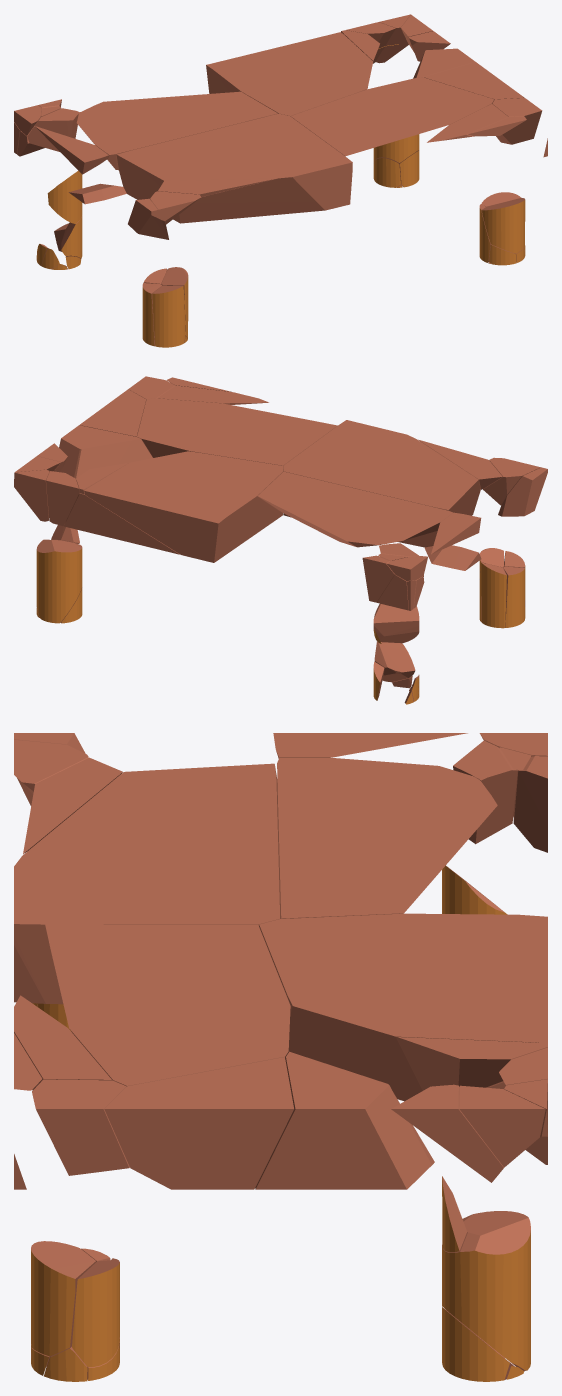
Rendered from cubicle_table_kaputt.glb.
The picture shows the model from 3 angles, top to bottom: view 1: azimuth 30°, elevation 25°; view 2: azimuth 150°, elevation 25°; view 3: azimuth 270°, elevation 25°; orthographic projection. The views are drawn at different scales.
Visible parts, largest first — view 1: Cube_cell.039, Cube_cell.010, Cube_cell.072, Cube_cell.085, Cube_cell.058, Cube_cell.077, Cube_cell.034, Cube_cell.096, Cube_cell.036, Cube_cell.094, Cube_cell.035, Cube_cell.078 (+20 smaller); view 2: Cube_cell.010, Cube_cell.039, Cube_cell.072, Cube_cell.085, Cube_cell.067, Cube_cell.002, Cube_cell.090, Cube_cell.034, Cube_cell.079, Cube_cell.009, Cube_cell.088, Cube_cell (+15 smaller); view 3: Cube_cell.039, Cube_cell.010, Cube_cell.072, Cube_cell.085, Cube_cell.034, Cube_cell.002, Cube_cell.067, Cube_cell.096, Cube_cell.077, Cube_cell.082, Cube_cell.043, Cube_cell.047 (+16 smaller).
Part boxes in pixels (x1=…): Cube_cell.039: x1=116, y1=113, x2=352, y2=223; Cube_cell.010: x1=206, y1=32, x2=373, y2=116; Cube_cell.072: x1=290, y1=77, x2=494, y2=156; Cube_cell.085: x1=76, y1=91, x2=277, y2=170; Cube_cell.058: x1=152, y1=285, x2=185, y2=347; Cube_cell.077: x1=481, y1=198, x2=525, y2=253; Cube_cell.034: x1=423, y1=62, x2=524, y2=99; Cube_cell.096: x1=492, y1=98, x2=542, y2=144; Cube_cell.036: x1=35, y1=126, x2=108, y2=174; Cube_cell.094: x1=27, y1=108, x2=79, y2=151; Cube_cell.035: x1=158, y1=178, x2=275, y2=196; Cube_cell.078: x1=427, y1=104, x2=508, y2=142; Cube_cell.010: x1=84, y1=451, x2=283, y2=562; Cube_cell.039: x1=283, y1=420, x2=480, y2=547; Cube_cell.072: x1=137, y1=398, x2=337, y2=468; Cube_cell.085: x1=258, y1=471, x2=453, y2=547; Cube_cell.067: x1=36, y1=539, x2=82, y2=623; Cube_cell.002: x1=59, y1=425, x2=152, y2=493; Cube_cell.090: x1=64, y1=493, x2=179, y2=554; Cube_cell.034: x1=79, y1=389, x2=146, y2=436; Cube_cell.079: x1=481, y1=563, x2=506, y2=628; Cube_cell.009: x1=373, y1=603, x2=419, y2=643; Cube_cell.088: x1=498, y1=467, x2=547, y2=516; Cube_cell: x1=46, y1=471, x2=79, y2=525; Cube_cell.039: x1=14, y1=763, x2=281, y2=1004; Cube_cell.010: x1=259, y1=913, x2=547, y2=1101; Cube_cell.072: x1=45, y1=924, x2=290, y2=1086; Cube_cell.085: x1=277, y1=758, x2=497, y2=918; Cube_cell.034: x1=104, y1=1057, x2=293, y2=1189; Cube_cell.002: x1=255, y1=1051, x2=434, y2=1189; Cube_cell.067: x1=442, y1=1211, x2=530, y2=1370; Cube_cell.096: x1=32, y1=1079, x2=129, y2=1175; Cube_cell.077: x1=31, y1=1241, x2=95, y2=1356; Cube_cell.082: x1=397, y1=1037, x2=547, y2=1089; Cube_cell.043: x1=391, y1=1084, x2=503, y2=1182; Cube_cell.047: x1=459, y1=1085, x2=545, y2=1167.
Bounding box in the file's own units: 2 × 0.7 × 1.2.
